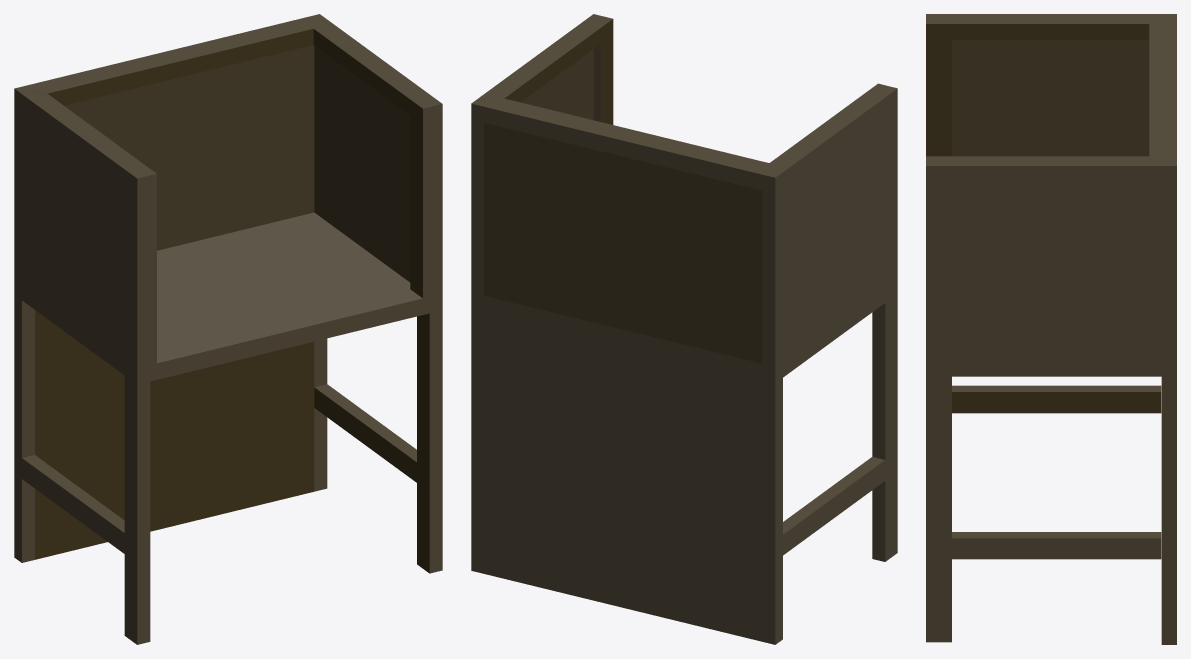
The model's file is 1st floor side table.fbx.
3 renders of one model, left to right at view 1: azimuth 30°, elevation 25°; view 2: azimuth 150°, elevation 25°; view 3: azimuth 270°, elevation 25°, orthographic. The views are drawn at different scales.
Visible parts, largest first — view 1: pCube1; view 2: pCube1; view 3: pCube1.
Boxes of the visible parts, box(x1,y1,x2,y2) form: pCube1: box(14, 14, 442, 644); pCube1: box(471, 14, 897, 644); pCube1: box(926, 14, 1176, 644).
Bounding box in the file's own units: 5.98 × 8.78 × 4.17.
